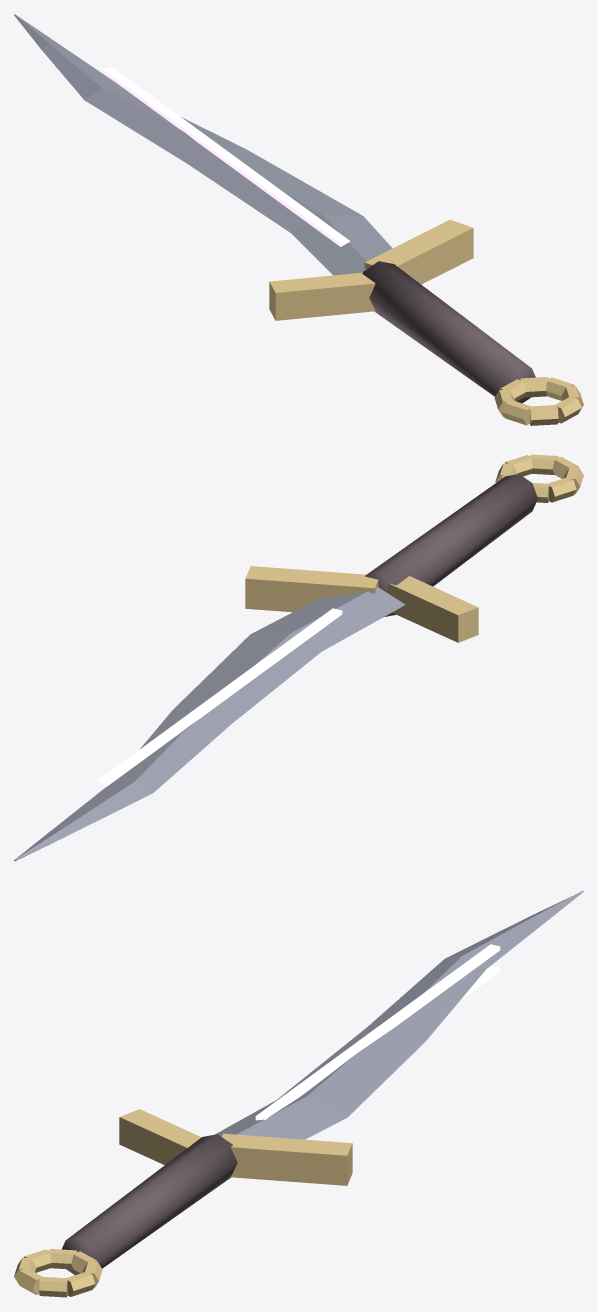
File: Assassin_DaggerR.fbx
3 views of the same model, one above another, from view 1: azimuth 30°, elevation 25°; view 2: azimuth 150°, elevation 25°; view 3: azimuth 330°, elevation 25° (orthographic).
Parts seen in each view (by area): view 1: Assassin_DaggerR_Blade, Assassin_DaggerR_GuardPommel, Assassin_DaggerR_Grip, Assassin_DaggerR_RuneDetail; view 2: Assassin_DaggerR_Blade, Assassin_DaggerR_GuardPommel, Assassin_DaggerR_Grip, Assassin_DaggerR_RuneDetail; view 3: Assassin_DaggerR_Blade, Assassin_DaggerR_GuardPommel, Assassin_DaggerR_Grip, Assassin_DaggerR_RuneDetail.
Part boxes in pixels (x1,y1,x2,y2): Assassin_DaggerR_Blade: (14, 14, 392, 275); Assassin_DaggerR_GuardPommel: (269, 219, 583, 425); Assassin_DaggerR_Grip: (362, 261, 535, 403); Assassin_DaggerR_RuneDetail: (103, 67, 349, 246); Assassin_DaggerR_Blade: (14, 586, 404, 861); Assassin_DaggerR_GuardPommel: (245, 454, 583, 642); Assassin_DaggerR_Grip: (365, 474, 537, 616); Assassin_DaggerR_RuneDetail: (97, 608, 342, 786); Assassin_DaggerR_Blade: (215, 890, 583, 1139); Assassin_DaggerR_GuardPommel: (14, 1109, 352, 1297); Assassin_DaggerR_Grip: (61, 1134, 237, 1275); Assassin_DaggerR_RuneDetail: (255, 944, 500, 1120).
Size of the model in its own units: 0.1769 by 0.036 by 0.7875.
